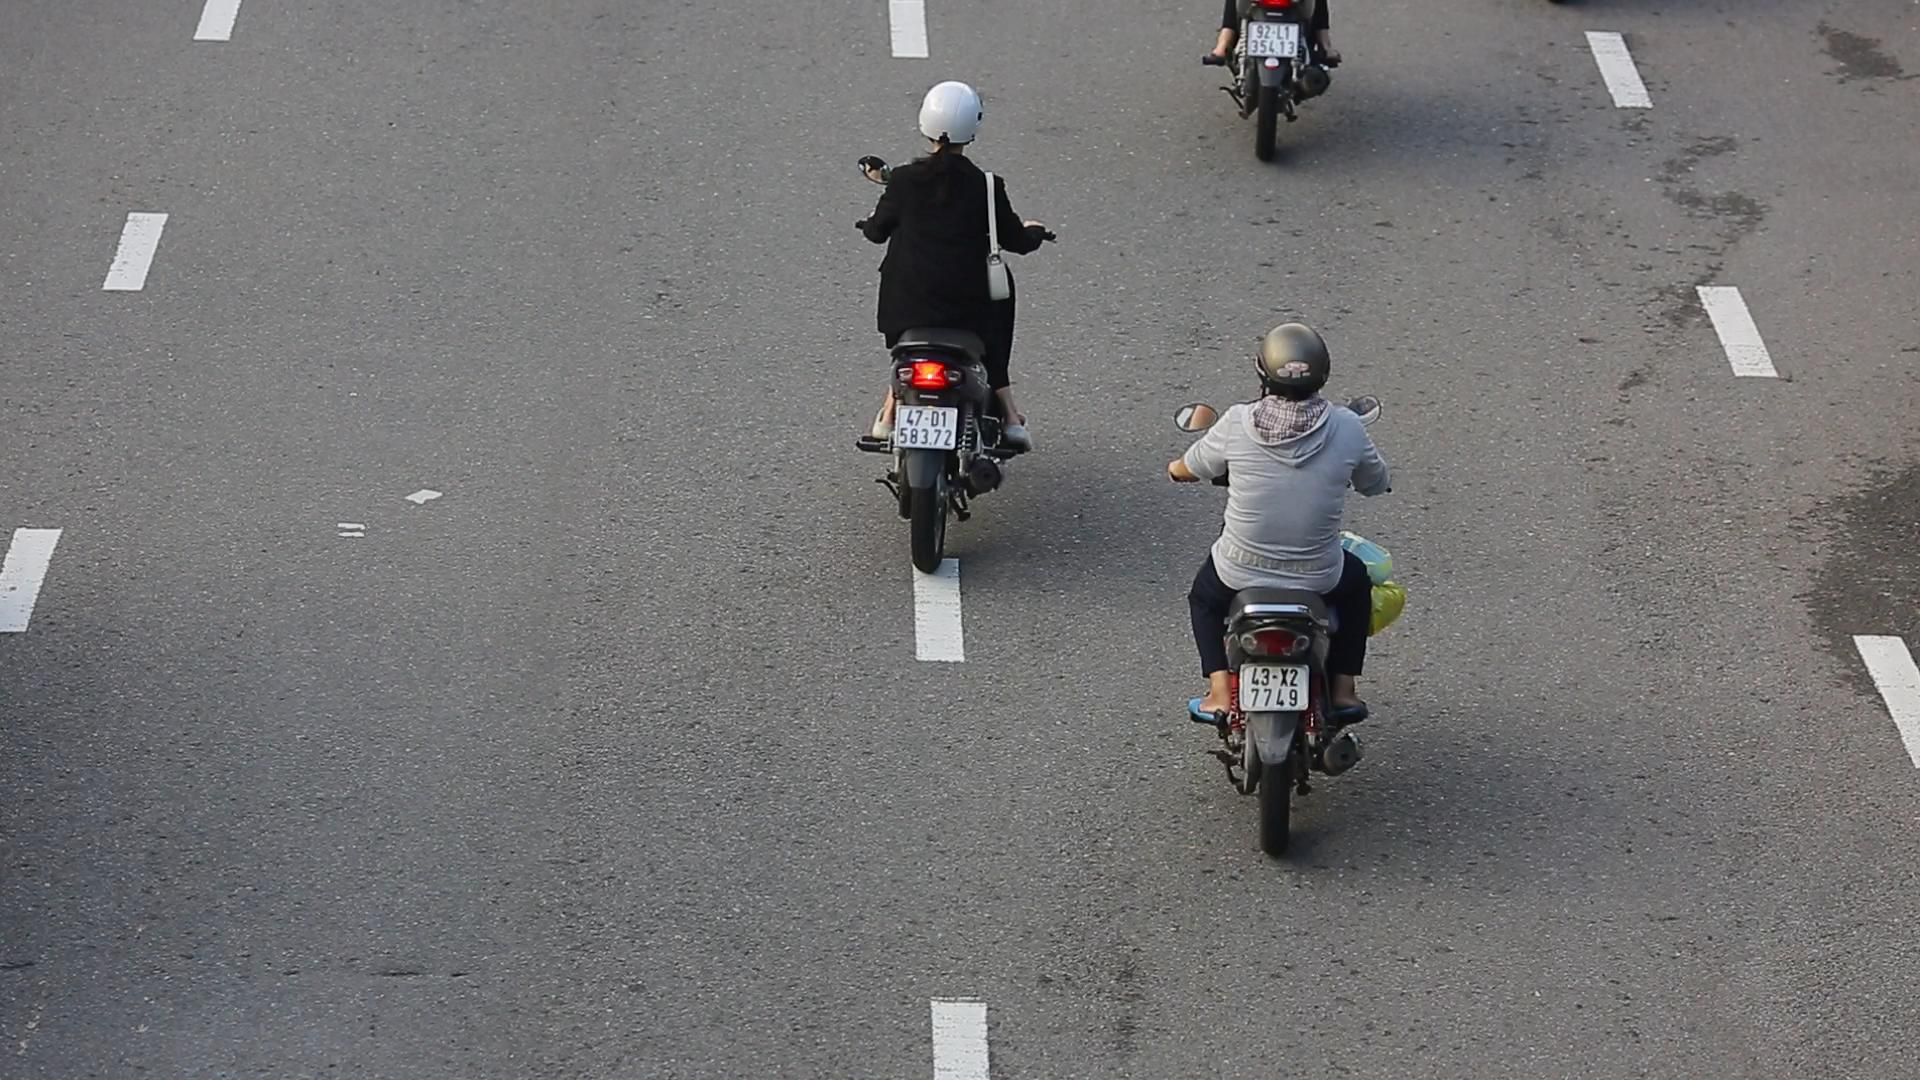motobike: (1168, 314, 1406, 869), (844, 82, 1052, 575)
